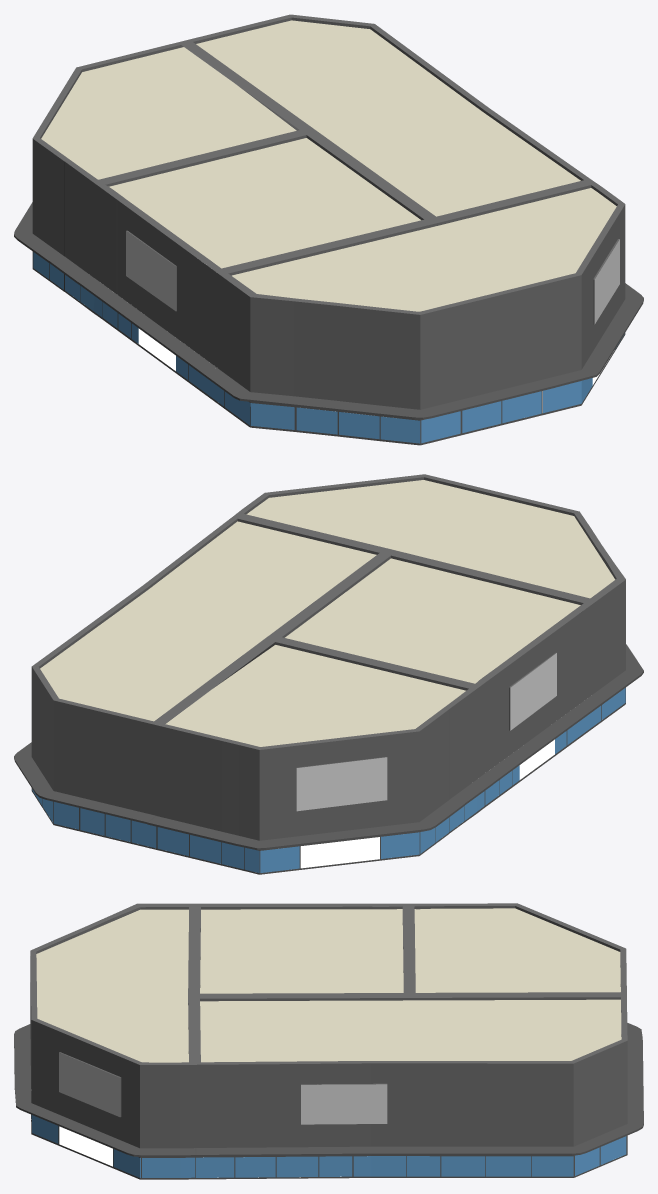
Rendered from haco.glb.
3 views of the same model, one above another, from view 1: azimuth 30°, elevation 25°; view 2: azimuth 150°, elevation 25°; view 3: azimuth 270°, elevation 25° (orthographic). The views are drawn at different scales.
Parts seen in each view (by area): view 1: 279815706.003; view 2: 279815706.003; view 3: 279815706.003.
Boxes of the visible parts, x1=… form: 279815706.003: x1=14, y1=14, x2=643, y2=445; 279815706.003: x1=14, y1=474, x2=643, y2=874; 279815706.003: x1=14, y1=903, x2=643, y2=1179.
Size of the model in its own units: 171 by 52.09 by 259.
